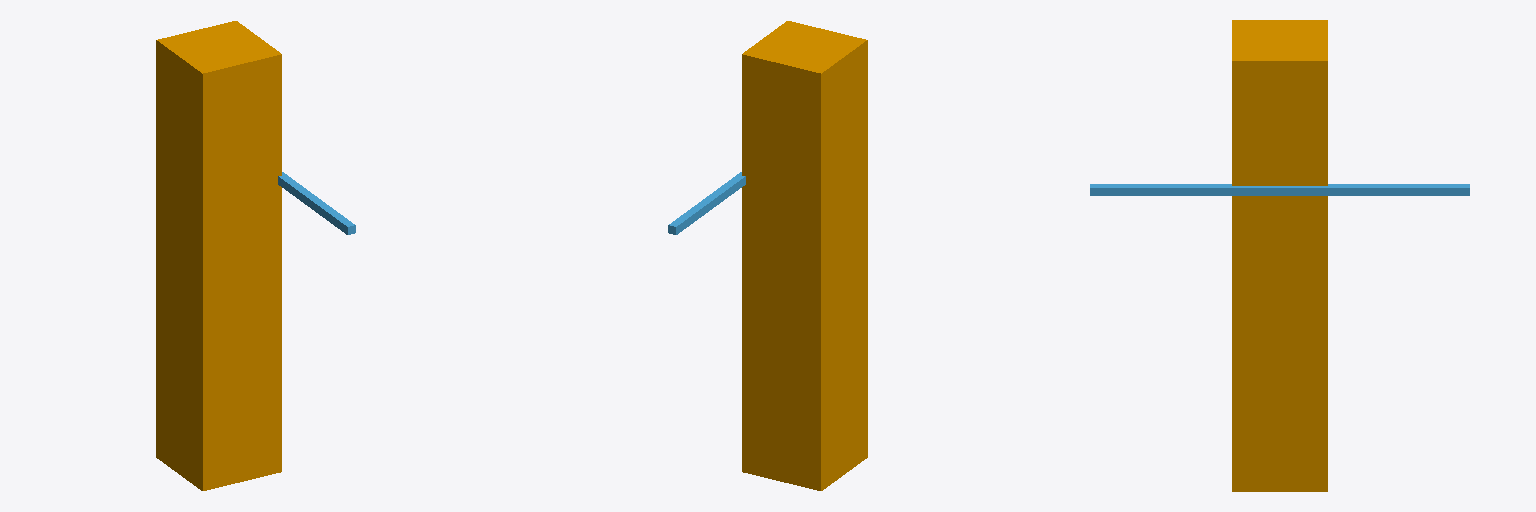
robot.urdf — panda:
<?xml version="1.0"?>
<!-- =================================================================================== -->
<!-- |    This document was autogenerated by xacro from panda_arm_hand.urdf.xacro      | -->
<!-- |    EDITING THIS FILE BY HAND IS NOT RECOMMENDED                                 | -->
<!-- =================================================================================== -->
<robot xmlns:xacro="http://www.ros.org/wiki/xacro" name="panda">
  <link name="panda_zbase">
    <inertial>
      <origin rpy="0 0 0" xyz="0 0 0"/>
      <mass value=".0"/>
      <inertia ixx="0" ixy="0" ixz="0" iyy="0" iyz="0" izz="0"/>
    </inertial>
    <visual>
      <geometry>
        <box size="0.1 0.1 0.5"/>
      </geometry>
    </visual>
    <collision>
      <geometry>
        <box size="0.1 0.1 0.5"/>
      </geometry>
      <material name="panda_white"/>
    </collision>
  </link>
  <link name="panda_xbase">
    <inertial>
      <origin rpy="1.57079632679 0 0" xyz="0.05 0 0.1"/>
      <mass value=".5"/>
      <inertia ixx="0" ixy="0" ixz="0" iyy="0" iyz="0" izz="0"/>
    </inertial>
    <visual>
      <geometry>
        <box size="0.01 0.01 0.4"/>
      </geometry>
    </visual>
    <collision>
      <geometry>
        <box size="0.01 0.01 0.4"/>
      </geometry>
      <material name="panda_white"/>
    </collision>
  </link>
  <link name="panda_hand">
    <inertial>
      <origin rpy="0 0 0" xyz="0 0 0.04"/>
      <mass value=".81"/>
      <inertia ixx="0.1" ixy="0" ixz="0" iyy="0.1" iyz="0" izz="0.1"/>
    </inertial>
    <visual>
      <geometry>
        <mesh filename="package://meshes/visual/hand.obj"/>
      </geometry>
      <material name="panda_white">
        <color rgba="1. 1. 1. 1."/>
      </material>
    </visual>
    <collision>
      <geometry>
        <mesh filename="package://meshes/collision/hand.obj"/>
      </geometry>
      <material name="panda_white"/>
    </collision>
  </link>
  <link name="panda_leftfinger">
    <inertial>
      <origin rpy="0 0 0" xyz="0 0.01 0.02"/>
      <mass value="0.1"/>
      <inertia ixx="0.1" ixy="0" ixz="0" iyy="0.1" iyz="0" izz="0.1"/>
    </inertial>
    <visual>
      <geometry>
        <mesh filename="package://meshes/visual/finger_visual.obj"/>
      </geometry>
      <material name="panda_white"/>
    </visual>
    <collision>
      <geometry>
        <mesh filename="package://meshes/collision/finger_collider.obj"/>
      </geometry>
      <material name="panda_white"/>
    </collision>
  </link>
  <link name="panda_leftfingerpad">
    <contact>
      <friction_anchor/>
      <stiffness value="30000.0"/>
      <damping value="1000.0"/>
      <spinning_friction value="0.1"/>
      <lateral_friction value="1.0"/>
    </contact>
    <inertial>
      <origin rpy="0 0 0" xyz="0 0. 0"/>
      <mass value="0.003"/>
      <inertia ixx="0.1038" ixy="0" ixz="0" iyy="0.1039" iyz="0" izz="0.162"/>
    </inertial>
    <visual>
      <geometry>
        <mesh filename="package://meshes/visual/fingerpad_visual2.obj"/>
      </geometry>
    </visual>
    <collision>
      <geometry>
        <mesh filename="package://meshes/collision/fingerpad_collider2.obj"/>
      </geometry>
    </collision>
  </link>
  <link name="panda_rightfinger">
    <contact>
      <friction_anchor/>
      <stiffness value="30000.0"/>
      <damping value="1000.0"/>
      <spinning_friction value="0.1"/>
      <lateral_friction value="1.0"/>
    </contact>
    <inertial>
      <origin rpy="0 0 0" xyz="0 -0.01 0.02"/>
      <mass value="0.1"/>
      <inertia ixx="0.1" ixy="0" ixz="0" iyy="0.1" iyz="0" izz="0.1"/>
    </inertial>
    <visual>
      <origin rpy="0 0 3.14159265359" xyz="0 0 0"/>
      <geometry>
        <mesh filename="package://meshes/visual/finger_visual.obj"/>
      </geometry>
      <material name="panda_white"/>
    </visual>
    <collision>
      <origin rpy="0 0 3.14159265359" xyz="0 0 0"/>
      <geometry>
        <mesh filename="package://meshes/collision/finger_collider.obj"/>
      </geometry>
    </collision>
  </link>
  <link name="panda_rightfingerpad">
    <contact>
      <friction_anchor/>
      <stiffness value="30000.0"/>
      <damping value="1000.0"/>
      <spinning_friction value="0.1"/>
      <lateral_friction value="1.0"/>
    </contact>
    <inertial>
      <origin rpy="0 0 0" xyz="0 0. 0"/>
      <mass value="0.003"/>
      <inertia ixx="0.1038" ixy="0" ixz="0" iyy="0.1039" iyz="0" izz="0.162"/>
    </inertial>
    <visual>
      <origin rpy="0 0 3.14159265359" xyz="0 0 0"/>
      <geometry>
        <mesh filename="package://meshes/visual/fingerpad_visual2.obj"/>
      </geometry>
    </visual>
    <collision>
      <origin rpy="0 0 3.14159265359" xyz="0 0 0"/>
      <geometry>
        <mesh filename="package://meshes/collision/fingerpad_collider2.obj"/>
      </geometry>
      <material name="panda_white"/>
    </collision>
  </link>
  <joint name="panda_xbase_zbase" type="prismatic">
    <parent link="panda_zbase"/>
    <child link="panda_xbase"/>
    <origin rpy="1.57079632679 0 0" xyz="0.05 0 0.1"/>
    <axis xyz="0 1 0"/>
    <limit effort="1000" lower="-0.5" upper="1.0" velocity="5.0"/>
  </joint>
  <joint name="panda_hand_xbase" type="prismatic">
    <parent link="panda_xbase"/>
    <child link="panda_hand"/>
    <origin rpy="1.57079632679 0 1.57079632679" xyz="0.05 0. 0."/>
    <axis xyz="0 1 0"/>
    <limit effort="1000" lower="-0.2" upper="0.2" velocity="5.0"/>
  </joint>
  <joint name="panda_finger_left" type="prismatic">
    <parent link="panda_hand"/>
    <child link="panda_leftfinger"/>
    <origin rpy="0 0 0" xyz="0 0 0.0584"/>
    <axis xyz="0 1 0"/>
    <dynamics damping="0.3" friction="0.0"/>
    <limit effort="20" lower="0.0" upper="0.04" velocity="0.2"/>
  </joint>
  <joint name="panda_left_fingerpad_joint" type="fixed">
    <parent link="panda_leftfinger"/>
    <child link="panda_leftfingerpad"/>
    <origin rpy="0 0 0" xyz="0 0 0.045"/>
  </joint>
  <joint name="panda_finger_right" type="prismatic">
    <parent link="panda_hand"/>
    <child link="panda_rightfinger"/>
    <origin rpy="0 0 0" xyz="0 0 0.0584"/>
    <axis xyz="0 -1 0"/>
    <dynamics damping="0.3" friction="0.0"/>
    <limit effort="20" lower="0.0" upper="0.04" velocity="0.2"/>
  </joint>
  <joint name="panda_right_fingerpad_joint" type="fixed">
    <parent link="panda_rightfinger"/>
    <child link="panda_rightfingerpad"/>
    <origin rpy="0 0 0" xyz="0 0 0.045"/>
  </joint>
</robot>

--- Render facts (derived) ---
3 views of the same robot in one strip: view 1: azimuth 30°, elevation 25°; view 2: azimuth 150°, elevation 25°; view 3: azimuth 270°, elevation 25° (orthographic).
Model panda with 7 links and 6 joints (4 prismatic, 2 fixed), rooted at panda_zbase, posed all joints at 0.
Links seen in each view (by area): view 1: panda_zbase, panda_xbase; view 2: panda_zbase, panda_xbase; view 3: panda_zbase, panda_xbase.
Link boxes in pixels (left/top/right/bottom): panda_zbase: left=156, top=21, right=281, bottom=490; panda_xbase: left=278, top=172, right=355, bottom=234; panda_zbase: left=742, top=21, right=867, bottom=490; panda_xbase: left=668, top=172, right=745, bottom=234; panda_zbase: left=1232, top=20, right=1327, bottom=491; panda_xbase: left=1090, top=184, right=1469, bottom=195.
Size in the robot's own frame: 0.105 by 0.4 by 0.5 metres.
Meshes: 3 distinct files referenced, 0 mesh visuals loaded (none loaded); not drawn: 5 (reference not matched to a file when rendering).